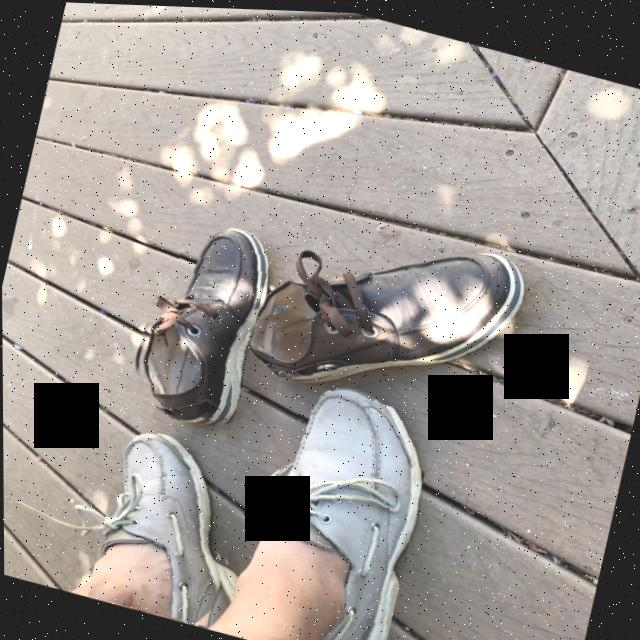shoe: (250, 382, 422, 640), (261, 241, 515, 382), (136, 219, 263, 417), (88, 436, 216, 623)
